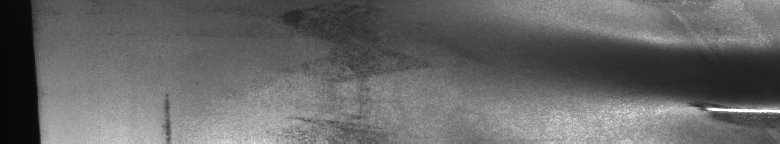ke: (634, 36, 776, 128)
